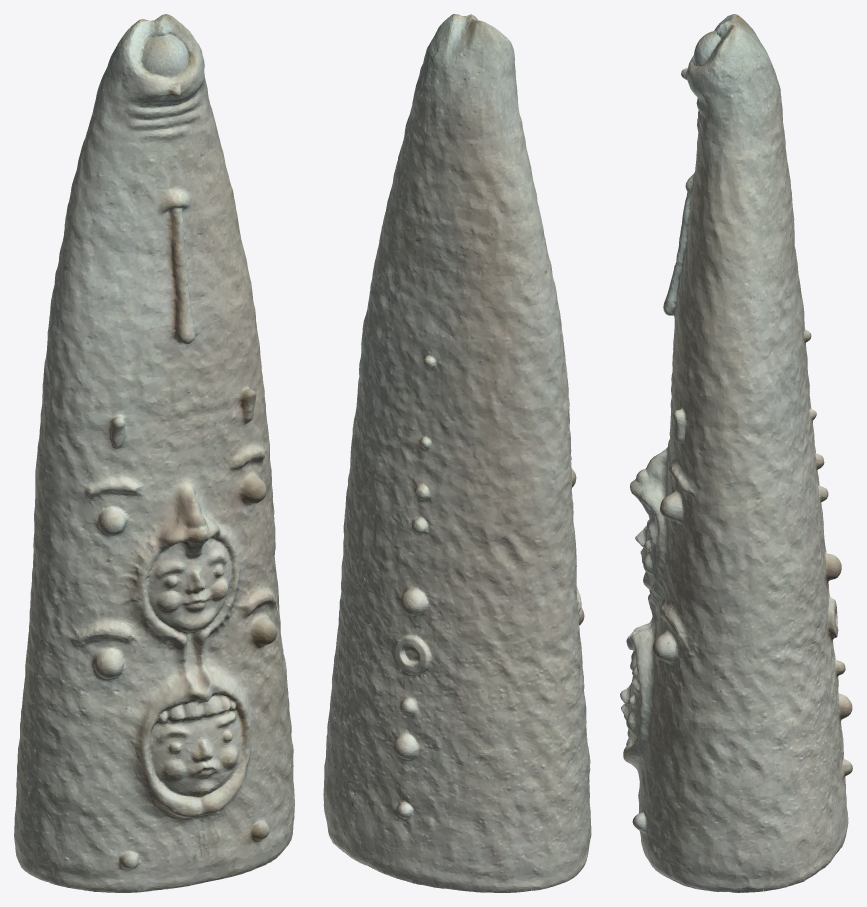
File: eme-y-uru.glb
3 renders of one model, left to right at view 1: azimuth 30°, elevation 25°; view 2: azimuth 150°, elevation 25°; view 3: azimuth 270°, elevation 25°, orthographic. The views are drawn at different scales.
Size of the model in its own units: 0.4166 by 1.32 by 0.3429.
1 material, 1 textured.
